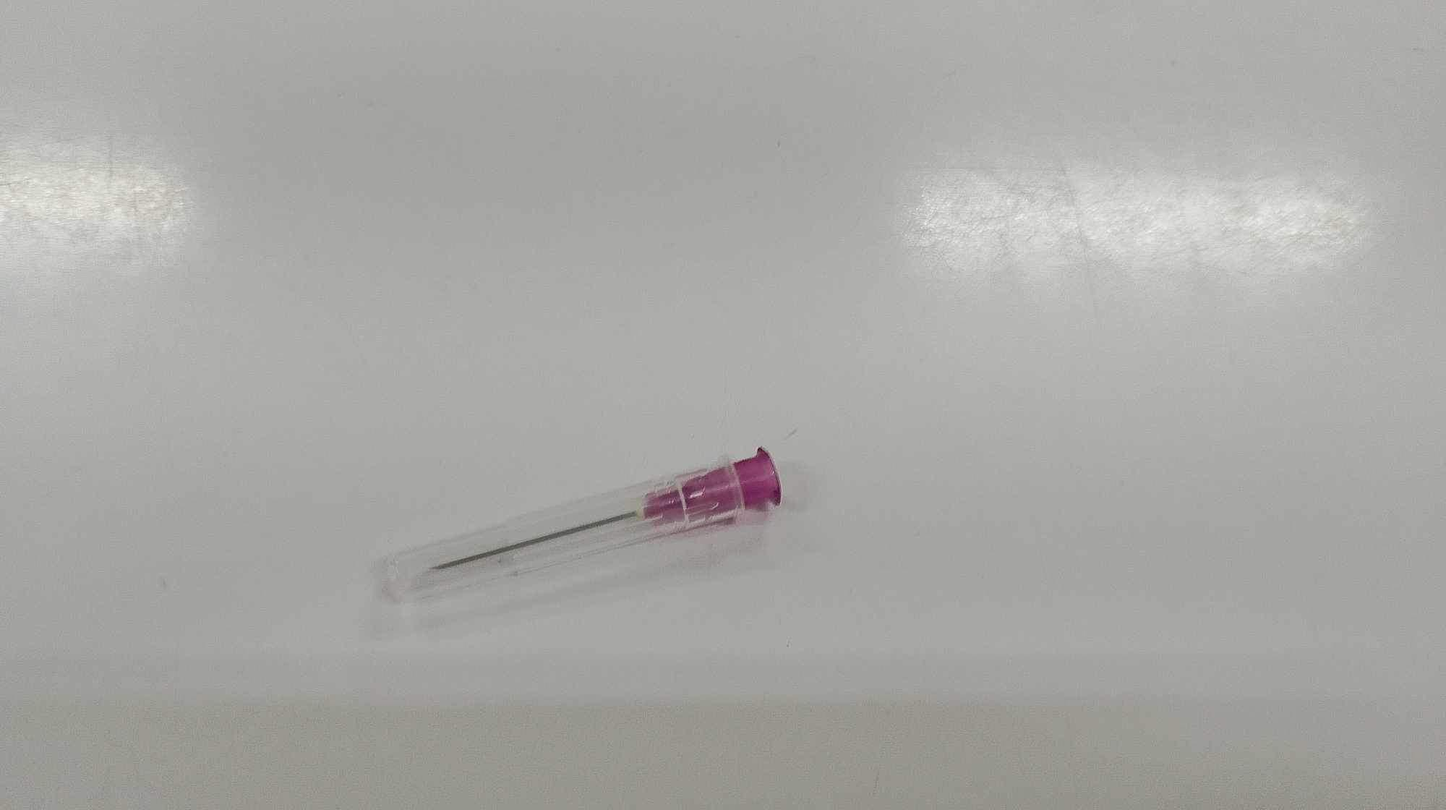Sharps: (373, 443, 784, 607)
